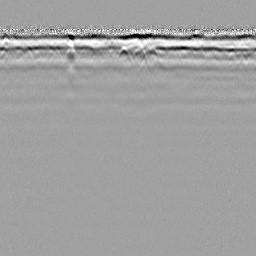cavity: (114, 45, 134, 68)
